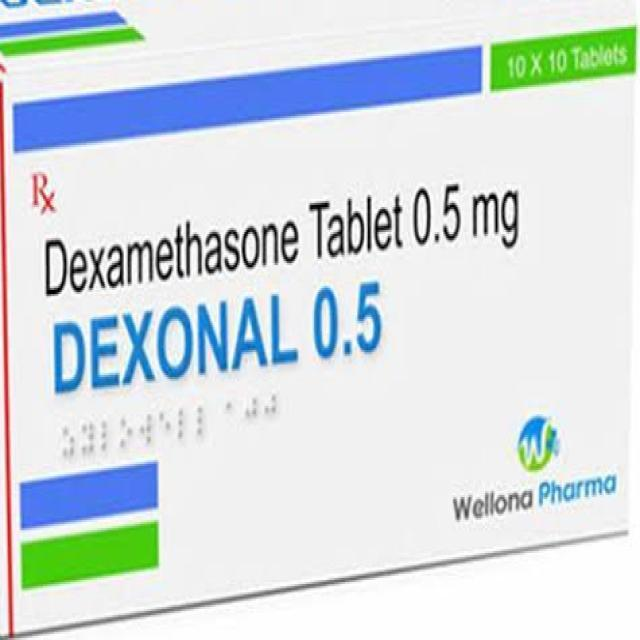drug-name: (48, 280, 390, 399)
